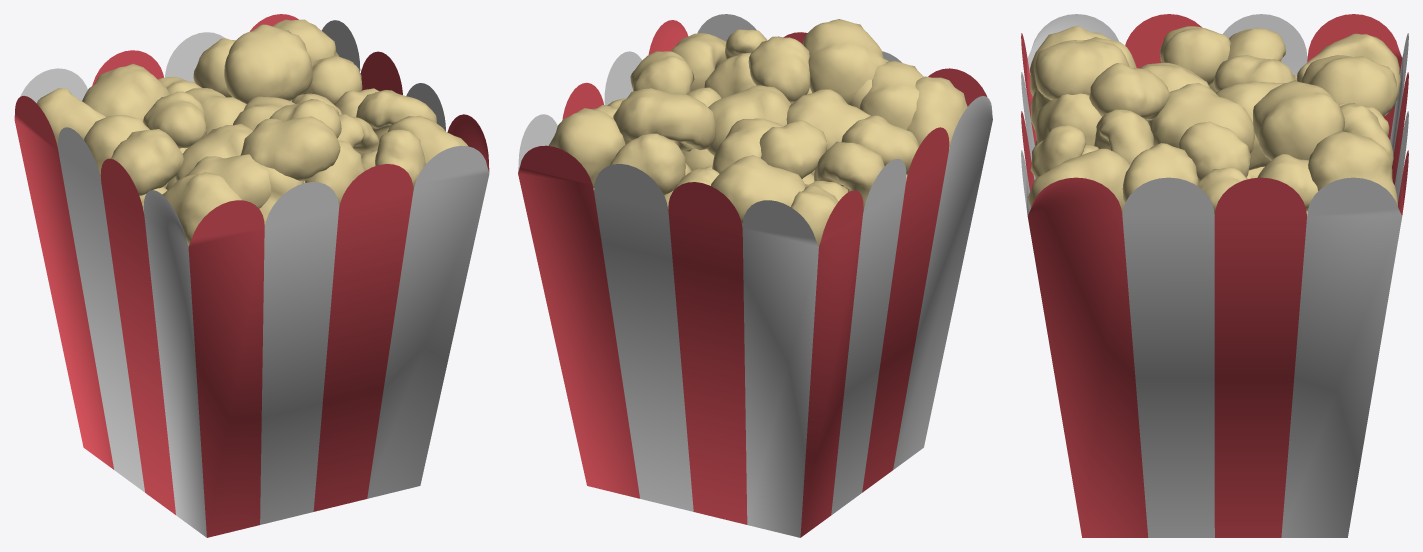
The model's file is popcorn.glb.
3 renders of one model, left to right at view 1: azimuth 30°, elevation 25°; view 2: azimuth 150°, elevation 25°; view 3: azimuth 270°, elevation 25°, orthographic. The views are drawn at different scales.
Parts seen in each view (by area): view 1: Circle_0; view 2: Circle_0; view 3: Circle_0.
Boxes of the visible parts, <box> form: Circle_0: <box>14,14,489,537</box>; Circle_0: <box>518,14,992,537</box>; Circle_0: <box>1021,14,1408,537</box>.
Size of the model in its own units: 8.4 by 10.26 by 8.42.
